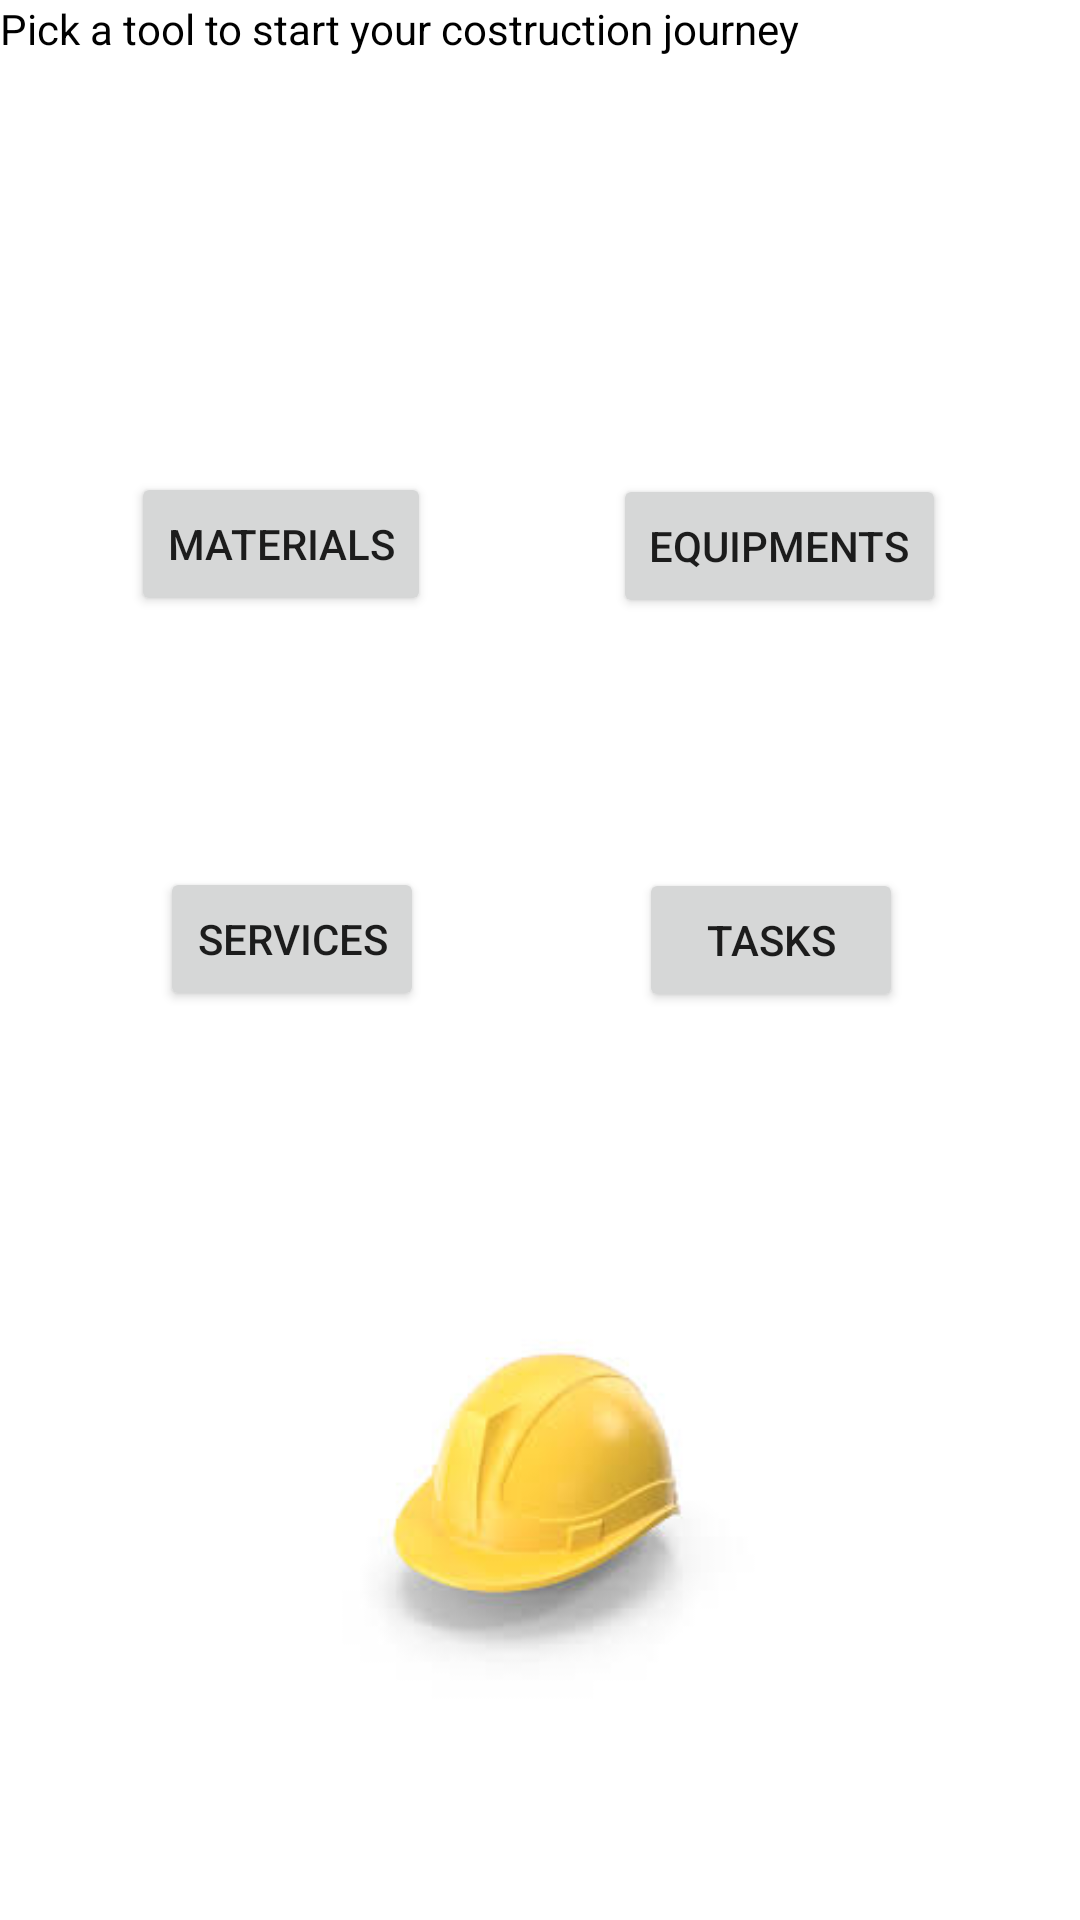

Named icons in this screenshot (1080w x 1920h) and their centers, (x=x, y=y):
helmet: (x=537, y=1499)
